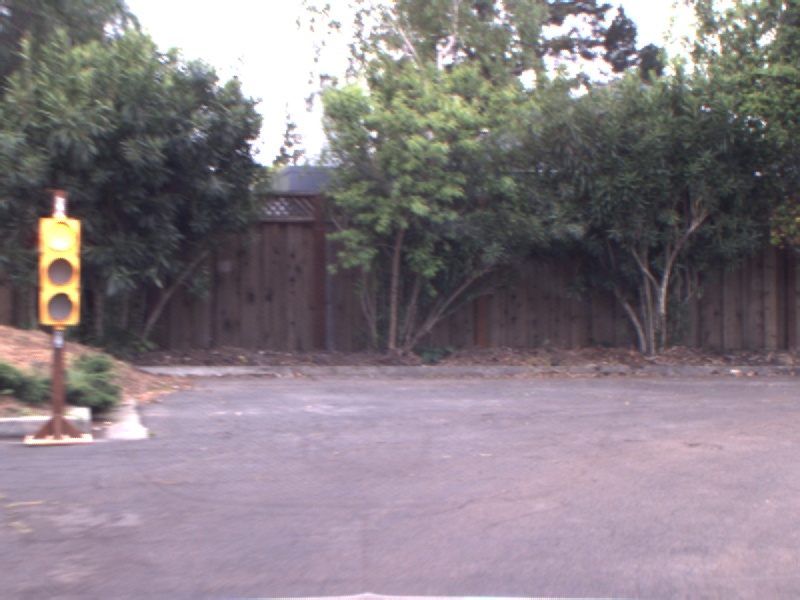red: (35, 210, 81, 328)
